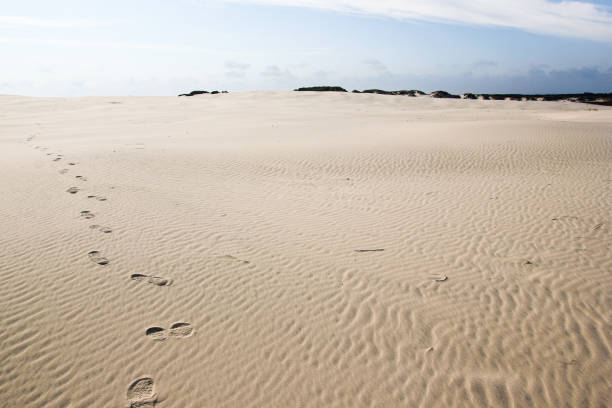human_foot_print: (126, 376, 156, 407), (146, 322, 193, 340), (130, 273, 171, 285), (88, 250, 108, 265), (89, 224, 111, 232), (80, 210, 94, 218), (87, 195, 106, 200), (66, 186, 79, 193), (75, 175, 86, 180), (59, 169, 68, 173)
